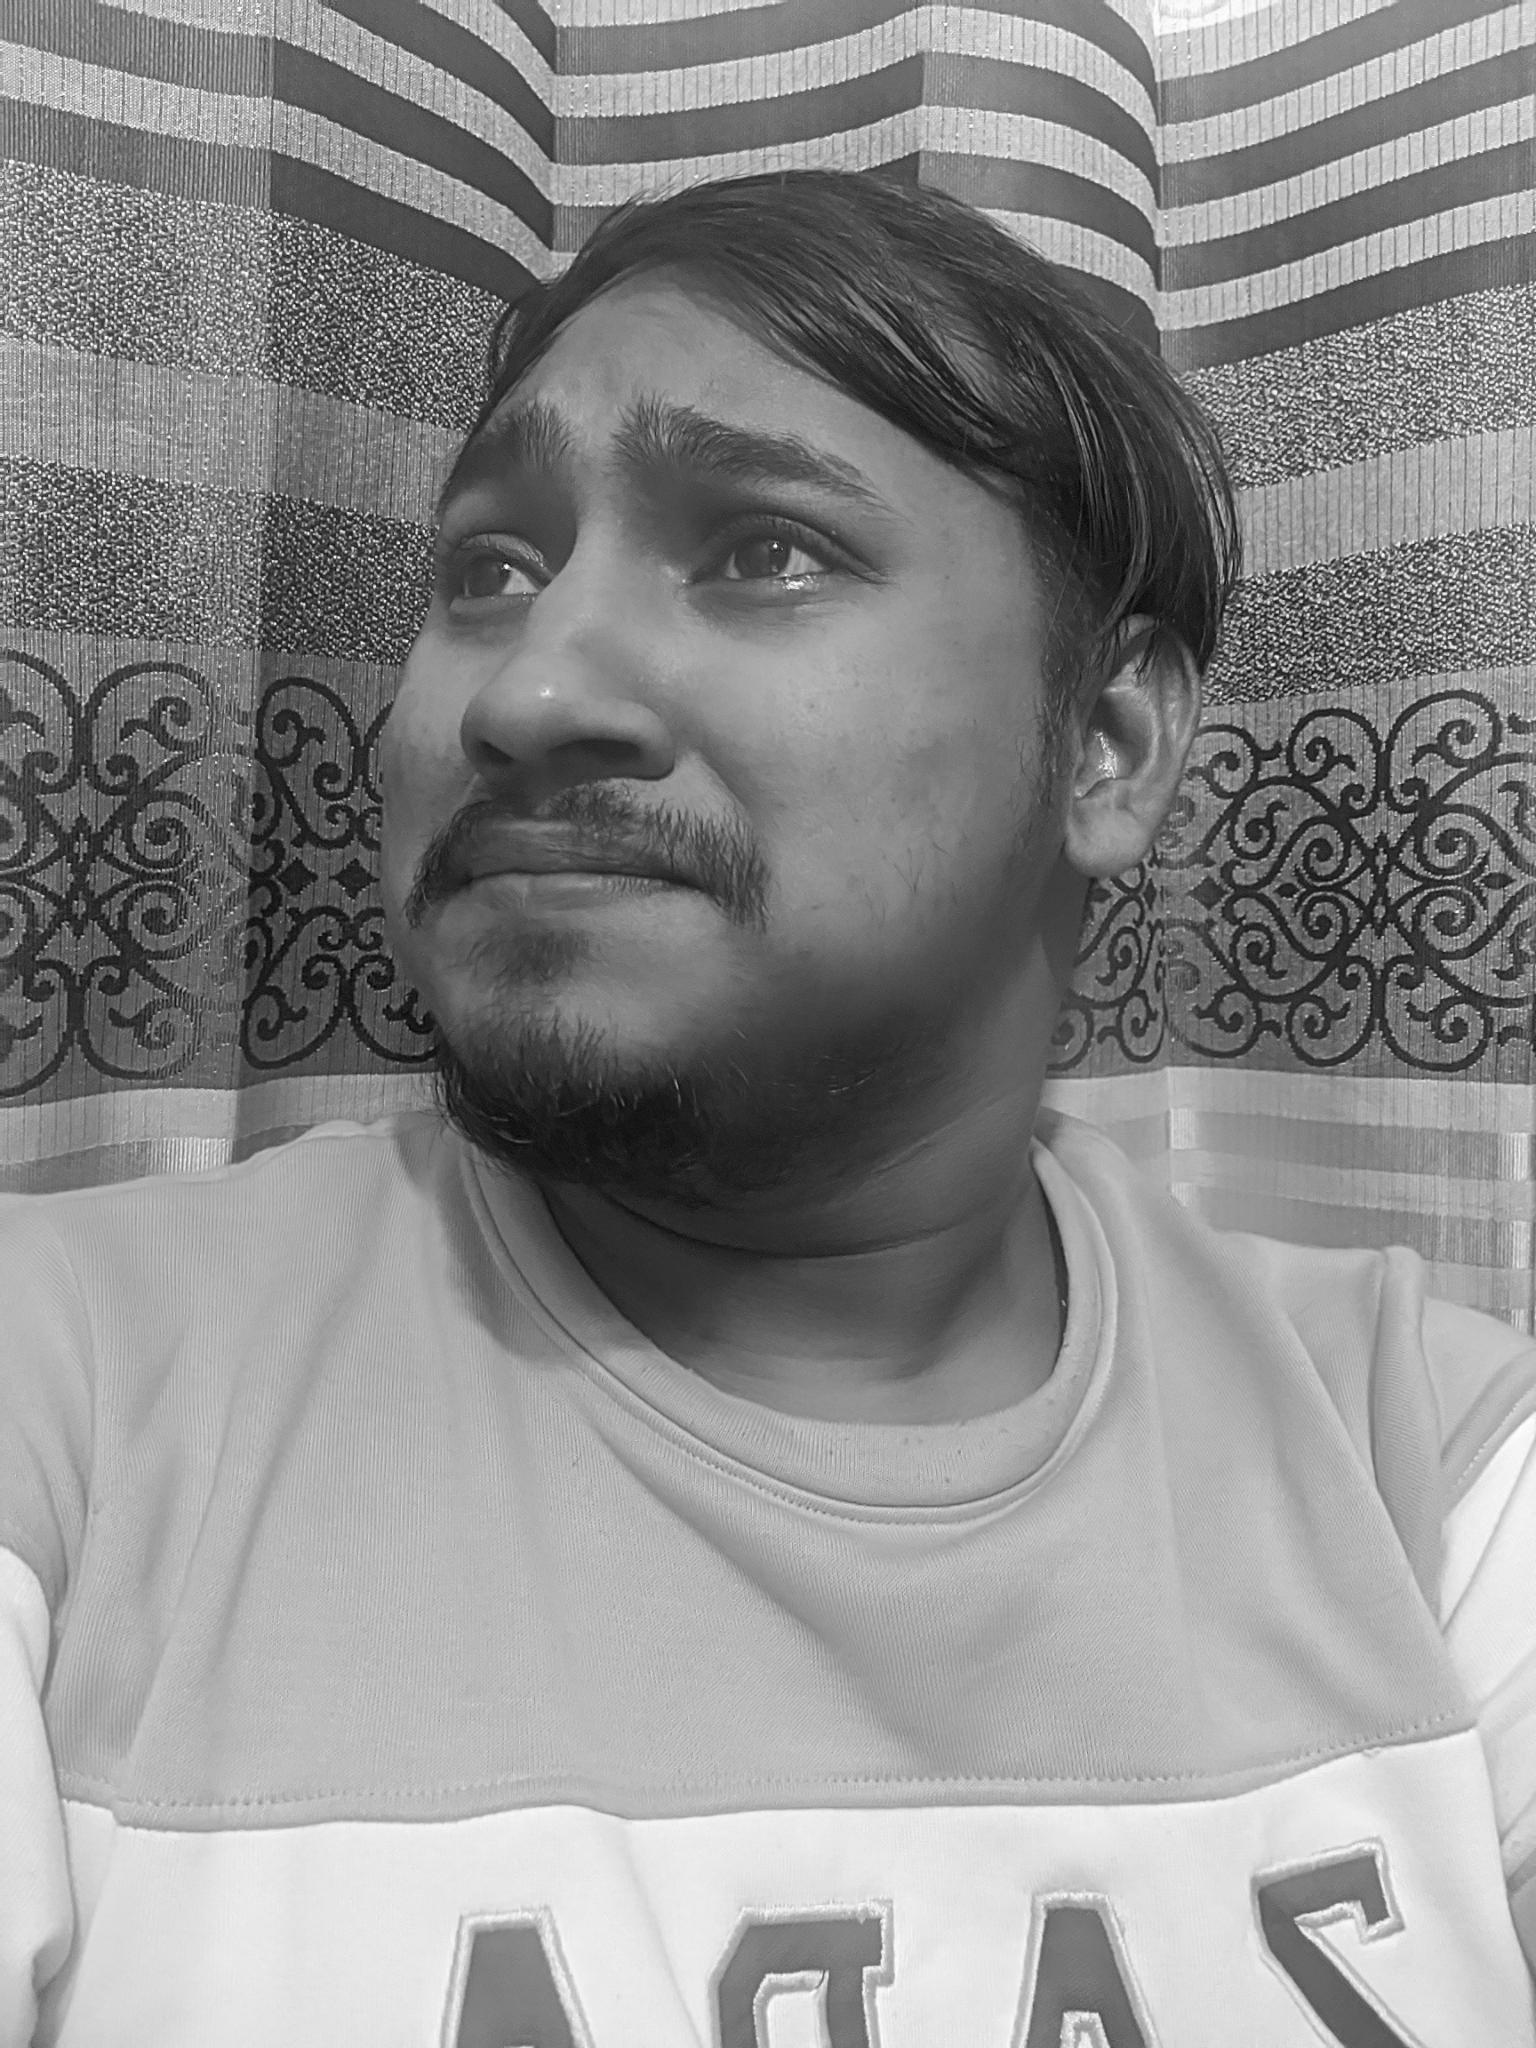Sad: (352, 361, 949, 1092)
